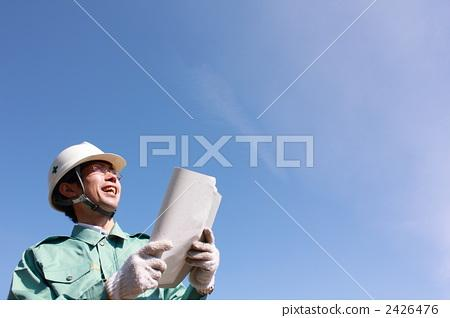helmet: (49, 145, 128, 212)
